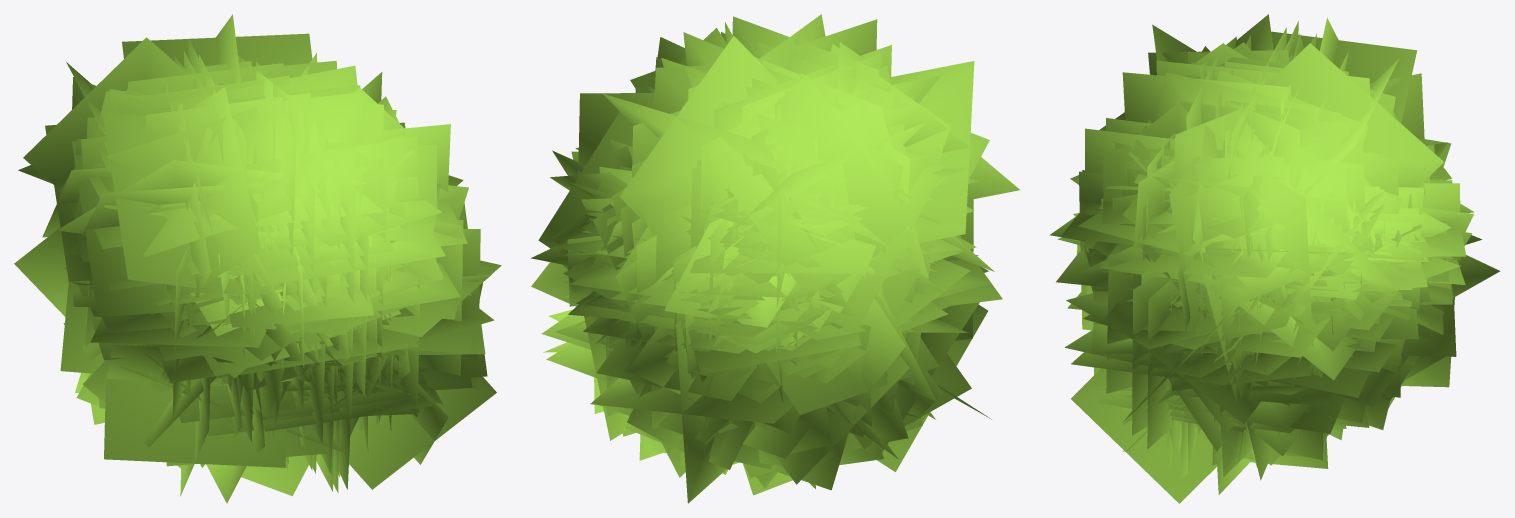
File: Foliage02.fbx
3 views of the same model, side by side, from view 1: azimuth 30°, elevation 25°; view 2: azimuth 150°, elevation 25°; view 3: azimuth 270°, elevation 25° (orthographic). The views are drawn at different scales.
Parts seen in each view (by area): view 1: Foliage02; view 2: Foliage02; view 3: Foliage02.
Boxes of the visible parts, x1,y1,x2,y2 form: Foliage02: (14,14,501,503); Foliage02: (531,14,1019,503); Foliage02: (1049,14,1500,503).
Size of the model in its own units: 21.24 by 23.24 by 22.3.
